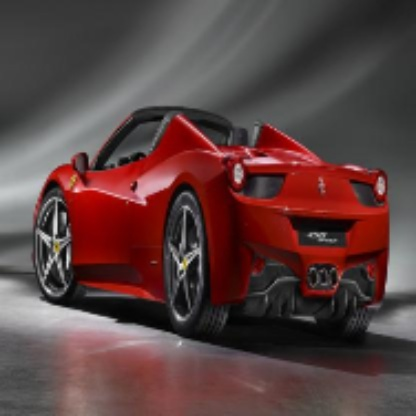Vehicle: (32, 102, 396, 350)
